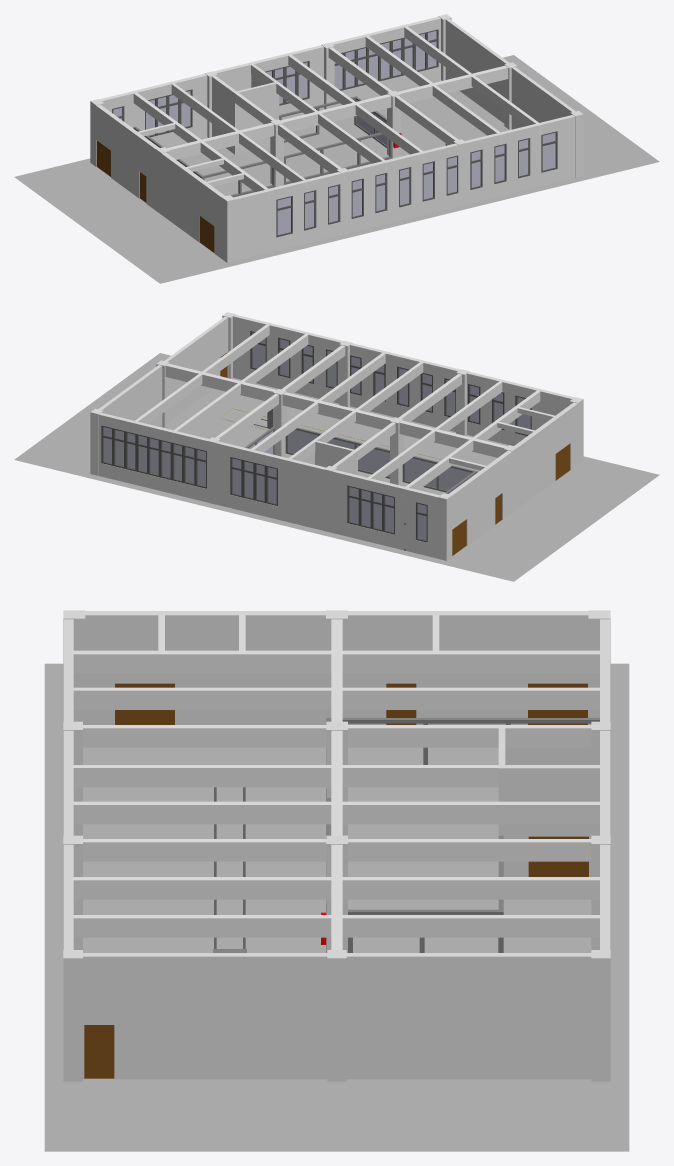
The model's file is DingLeiChangFang.gltf.
3 views of the same model, one above another, from view 1: azimuth 30°, elevation 25°; view 2: azimuth 150°, elevation 25°; view 3: azimuth 270°, elevation 25° (orthographic). The views are drawn at different scales.
Visible parts, largest first — view 1: DingLeiChangFang; view 2: DingLeiChangFang; view 3: DingLeiChangFang.
Part boxes in pixels (left/top/right/bottom): DingLeiChangFang: left=14, top=14, right=659, bottom=283; DingLeiChangFang: left=14, top=312, right=659, bottom=581; DingLeiChangFang: left=44, top=610, right=629, bottom=1151.
Size of the model in its own units: 38.43 by 4.65 by 19.46.
